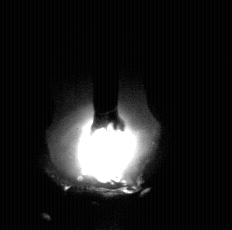arame: (93, 0, 120, 130)
poca: (47, 0, 158, 230)
